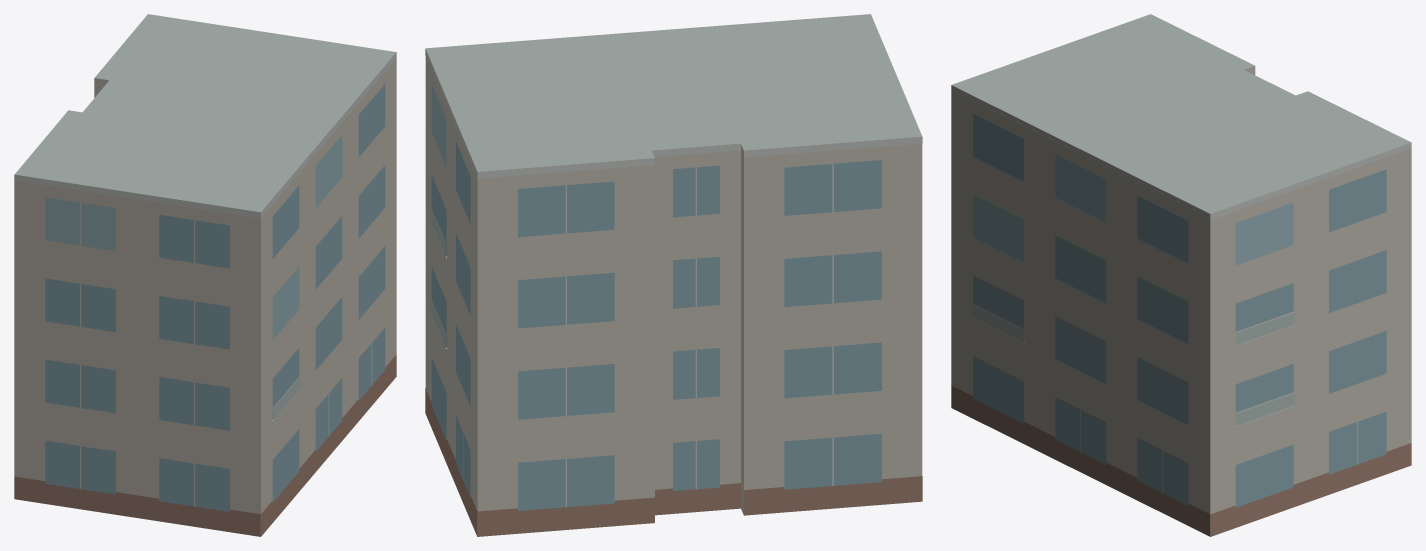
File: survey-upis-32625108.glb
3 views of the same model, side by side, from view 1: azimuth 30°, elevation 25°; view 2: azimuth 150°, elevation 25°; view 3: azimuth 270°, elevation 25° (orthographic). The views are drawn at different scales.
Visible parts, largest first — view 1: survey-upis-32625108.tmp; view 2: survey-upis-32625108.tmp; view 3: survey-upis-32625108.tmp.
Part boxes in pixels (box(x1,y1,x2,y2)): survey-upis-32625108.tmp: box(14, 14, 396, 536); survey-upis-32625108.tmp: box(425, 14, 922, 536); survey-upis-32625108.tmp: box(951, 14, 1411, 536).
Size of the model in its own units: 17.25 by 12.98 by 16.78.
